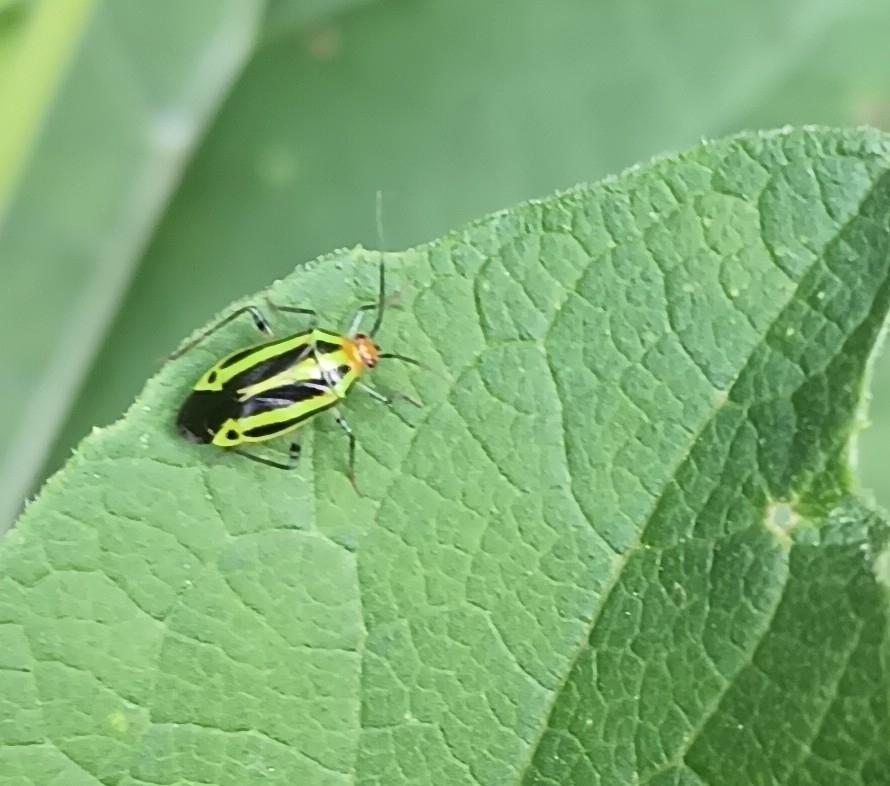plant_bugs: (106, 163, 466, 524)
